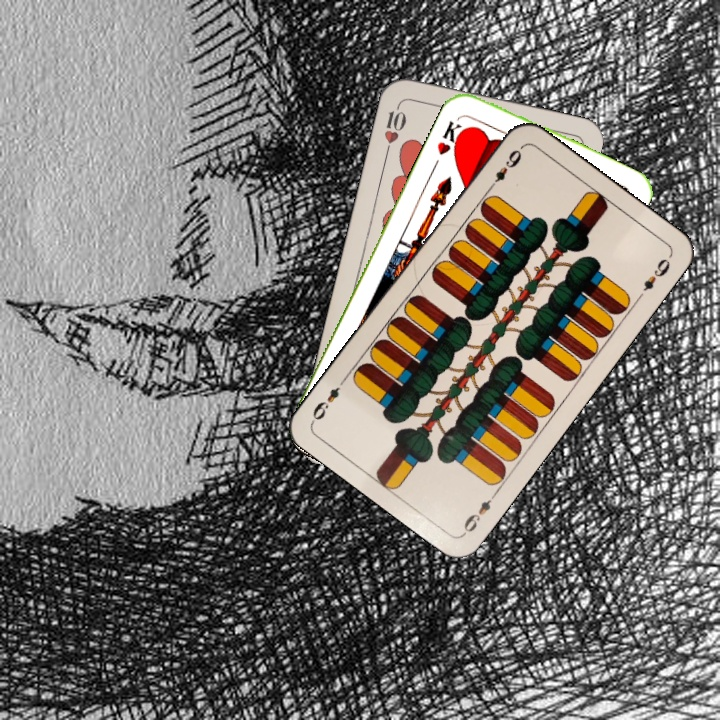E9: (483, 143, 525, 193), (459, 487, 501, 537)
H10: (380, 98, 409, 156)
HK: (433, 116, 470, 158)
